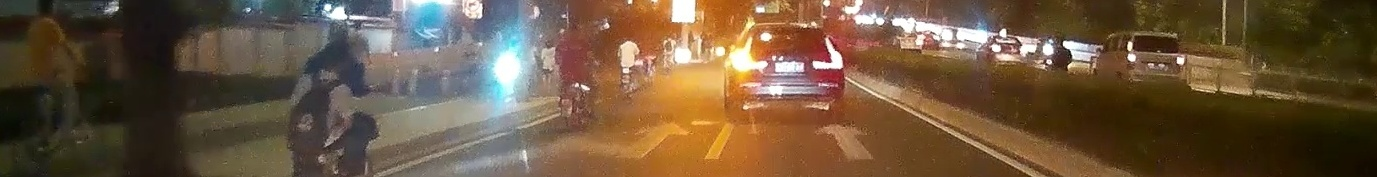L_light: (732, 36, 769, 70)
R_light: (812, 37, 844, 70)
T_light: (779, 29, 794, 35)
night-left: (728, 23, 846, 116)
